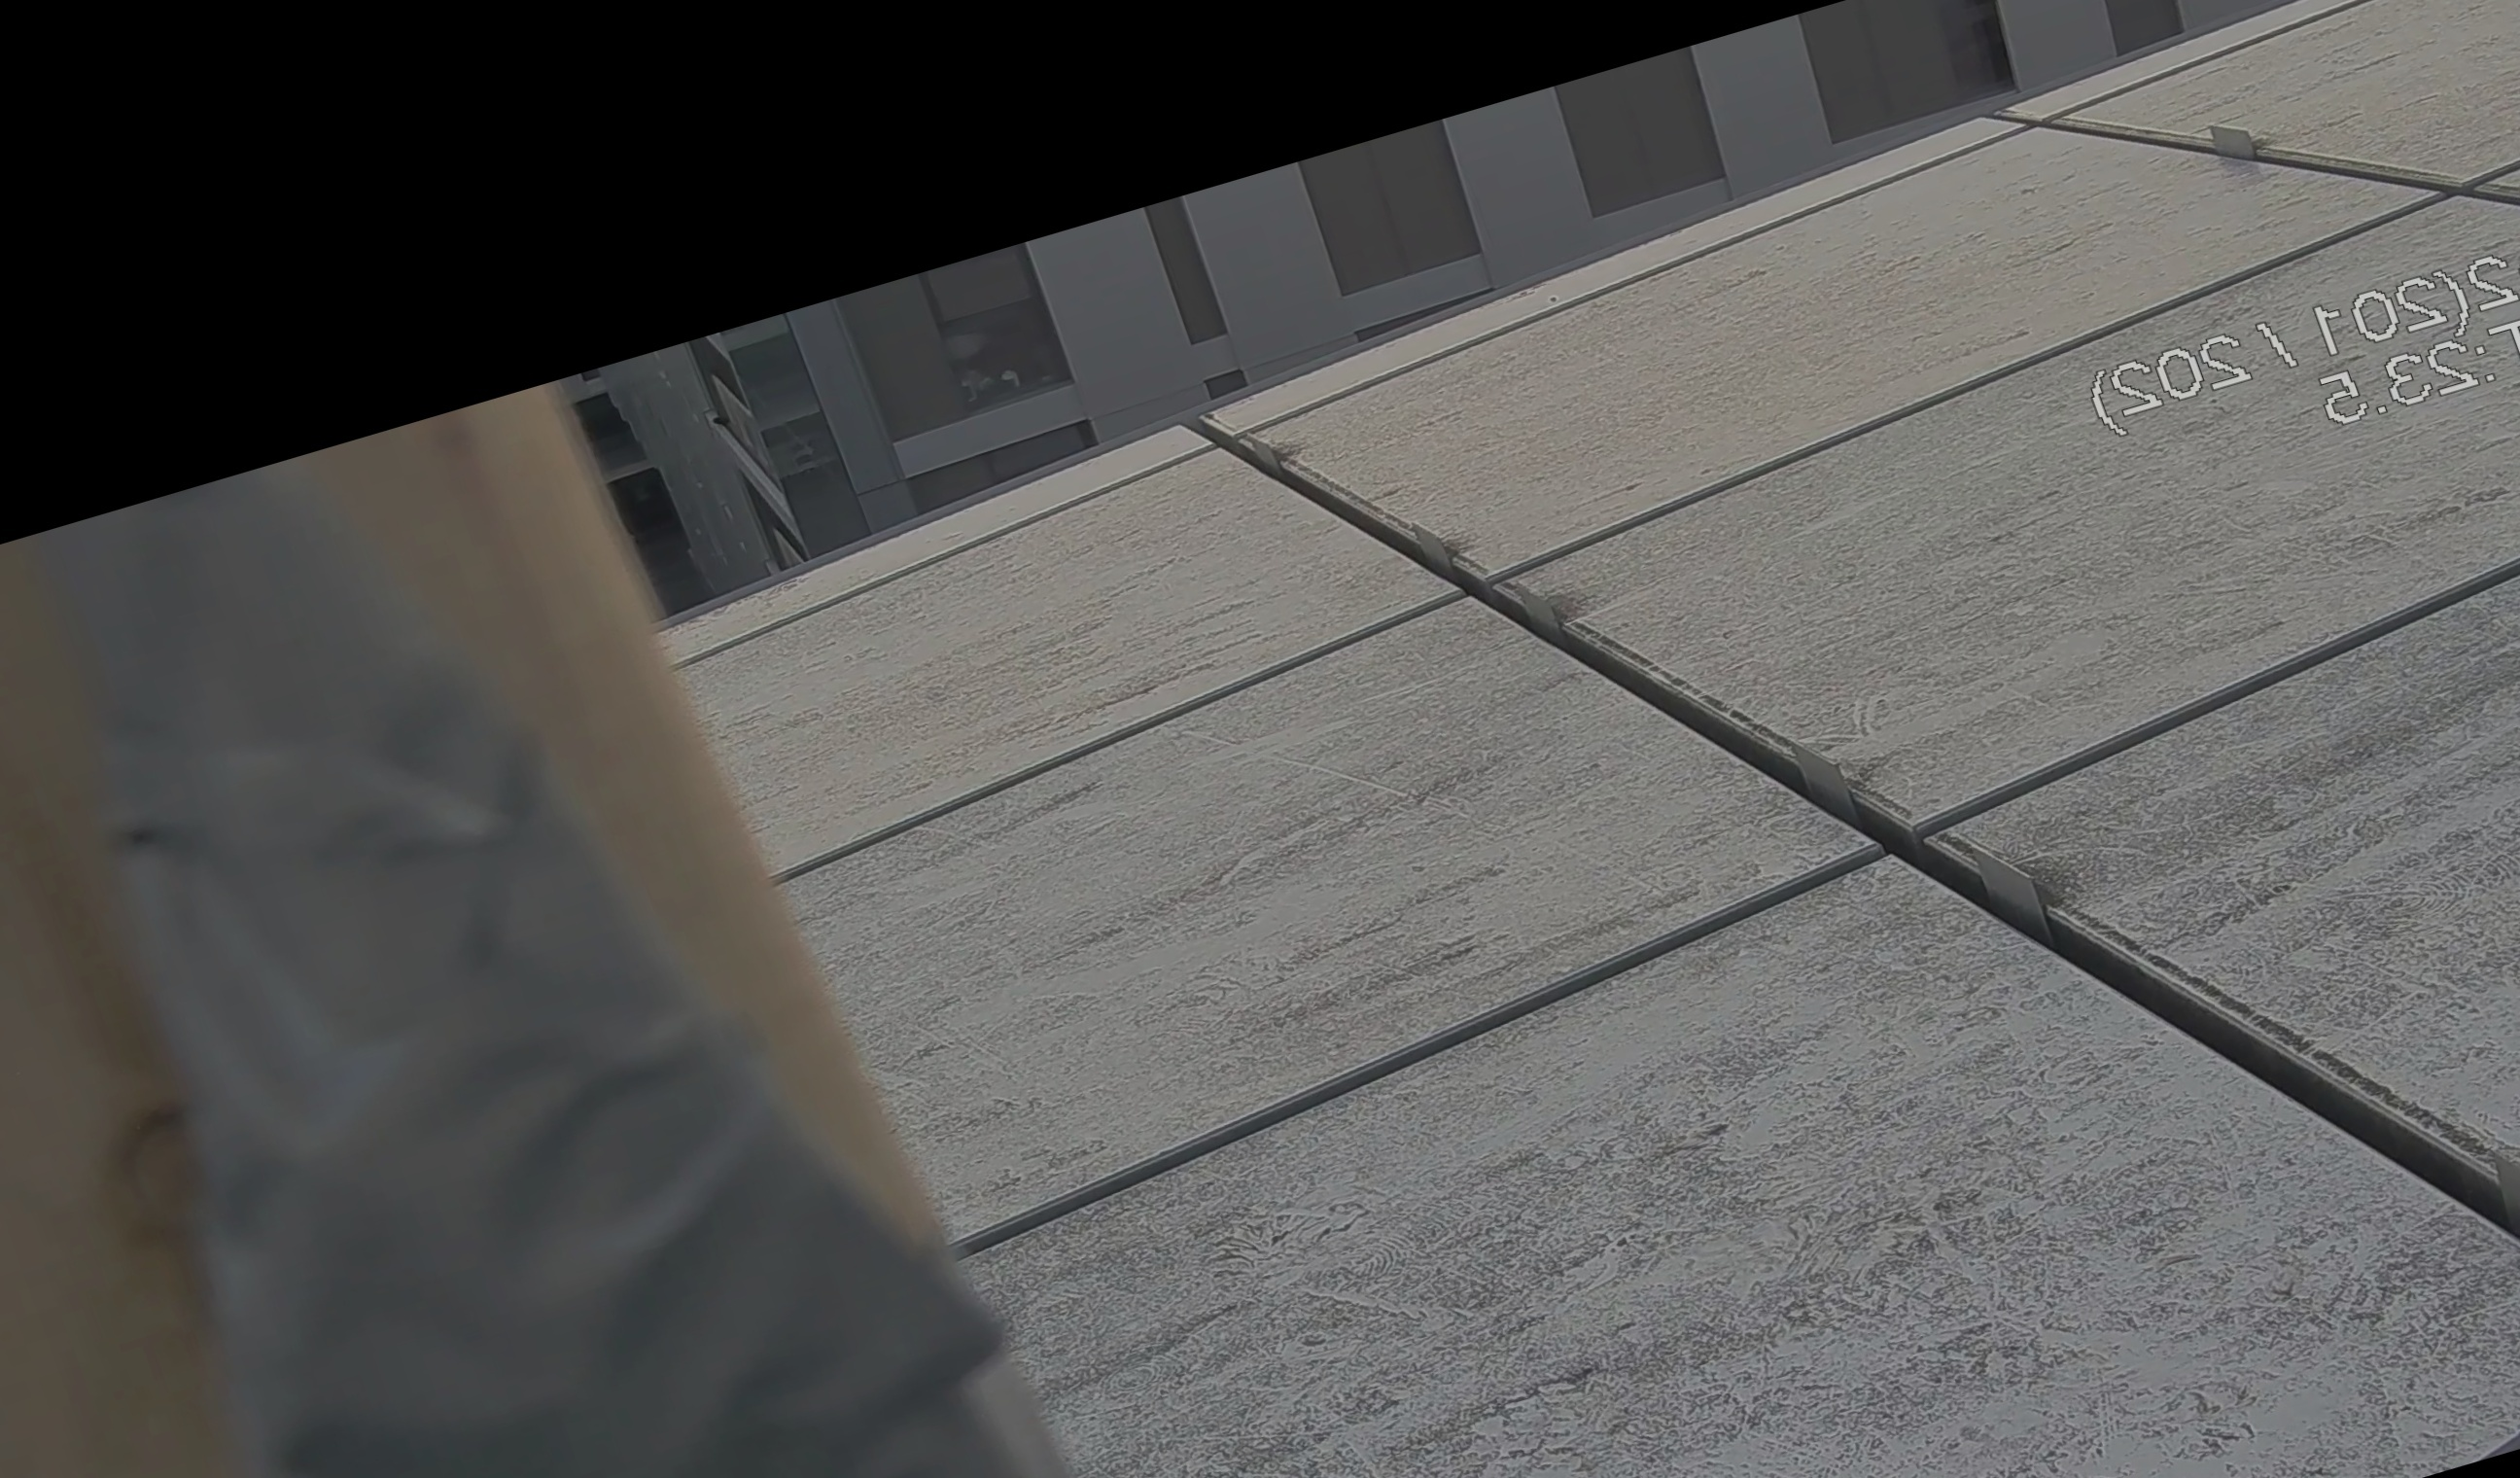Other: (0, 278, 1235, 1478)
